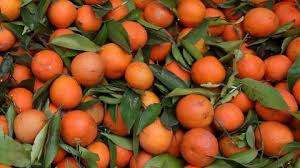orange: (180, 127, 219, 164), (59, 110, 98, 146), (173, 93, 215, 125), (138, 116, 174, 153), (98, 42, 133, 80), (256, 118, 294, 153), (15, 106, 50, 140), (48, 76, 84, 109), (70, 52, 105, 85), (190, 56, 225, 88), (213, 103, 246, 130), (125, 61, 154, 88)
